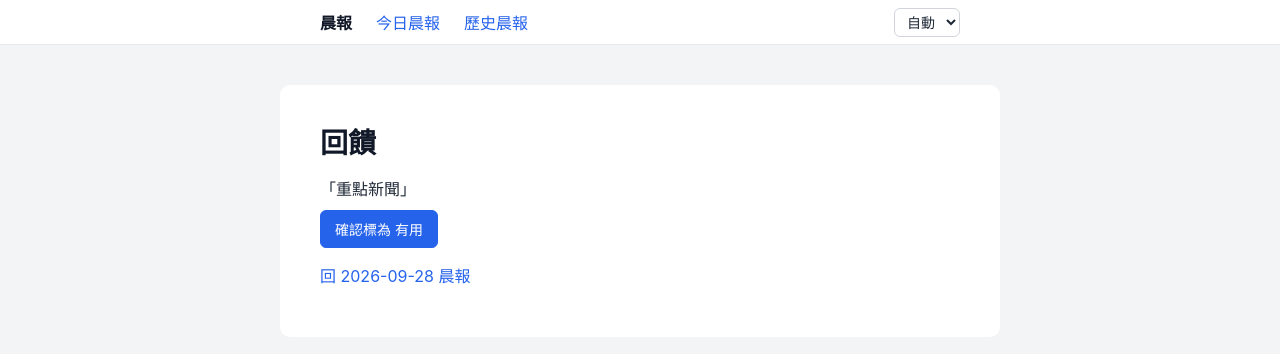
Scenario: /feedback/<uid>（email 連結的確認頁） › 按確認才 POST；成功後改顯示已記下，按鈕消失
Click the button "確認標為 有用" at {"x": 379, "y": 229}, box top-left (320, 210), bottom-right (438, 248)
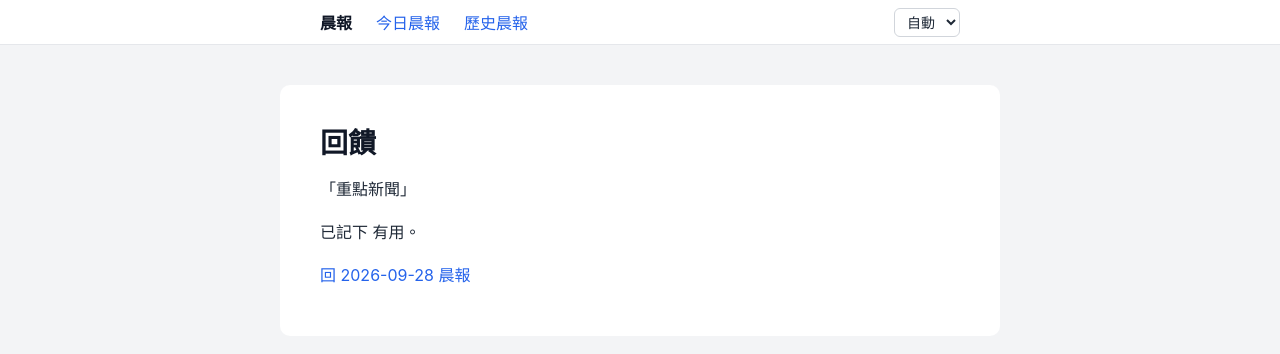
expect the text "已記下 有用。" is shown: met, box top-left (320, 222), bottom-right (420, 242)
expect the button "確認標為" is gone: met
